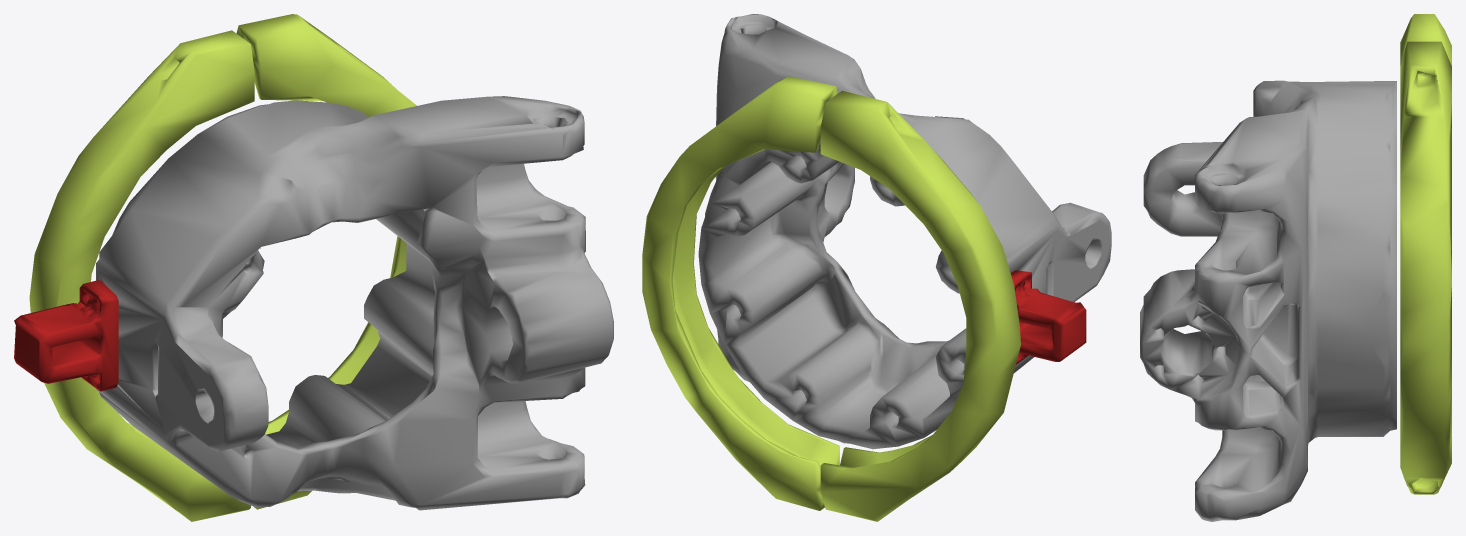
Rendered from spine_yaw.obj.
3 renders of one model, left to right at view 1: azimuth 30°, elevation 25°; view 2: azimuth 150°, elevation 25°; view 3: azimuth 270°, elevation 25°, orthographic. The views are drawn at different scales.
Bounding box in the file's own units: 0.146 × 0.138 × 0.091.
